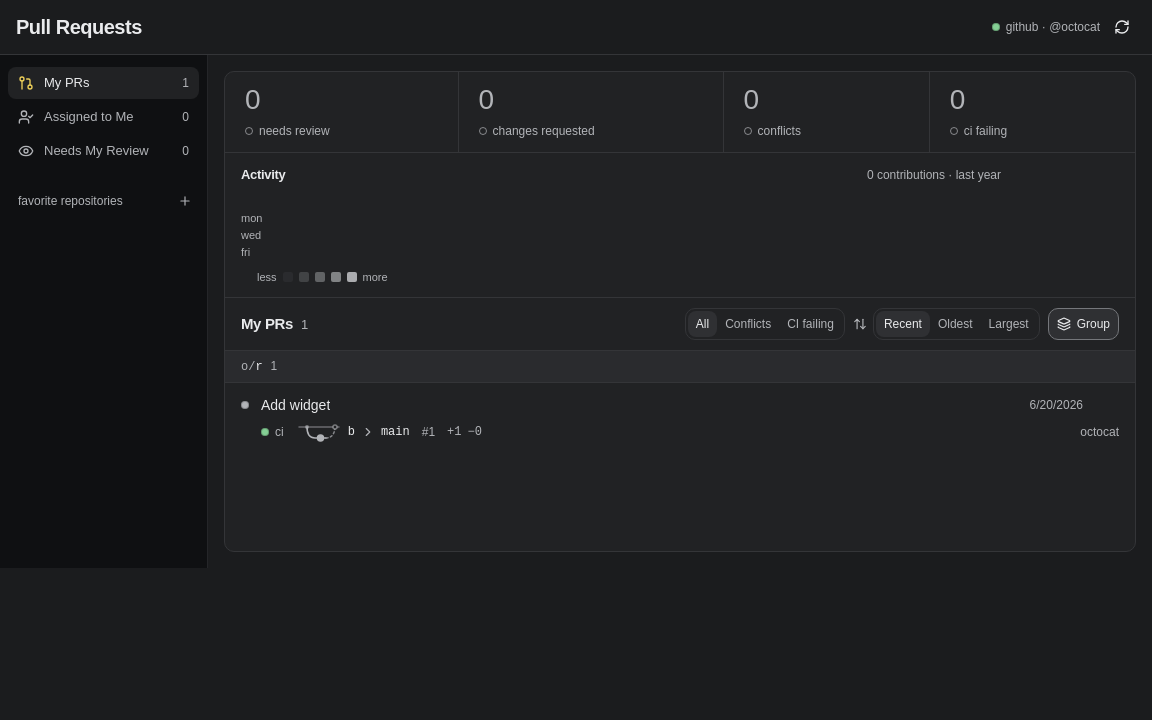
Test: PrsPage › opens and closes the pull request drawer from a row
The image size is (1152, 720).
Step 1. Click the button named "Add widget pull request" → x=680, y=419, box [225,383,1135,455]
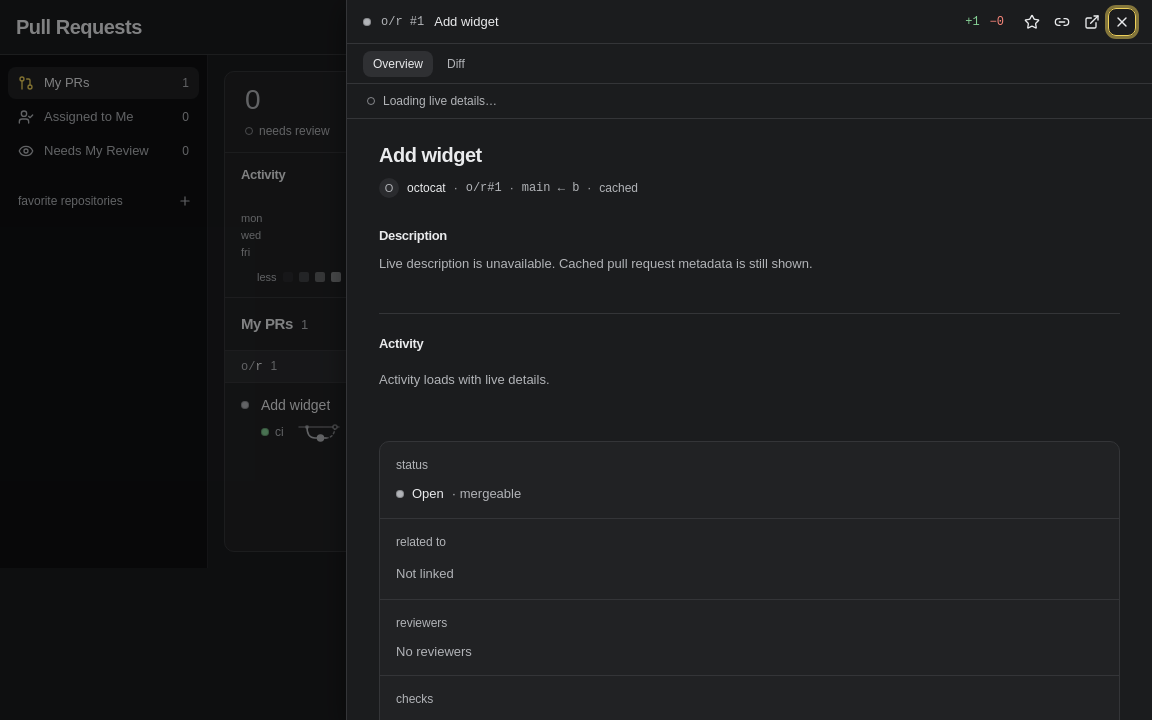
Now the dialog named "o/r pull request 1" is shown
Step 2. Click the button named "Close pull request" → x=1122, y=22, box [1108,8,1136,36]
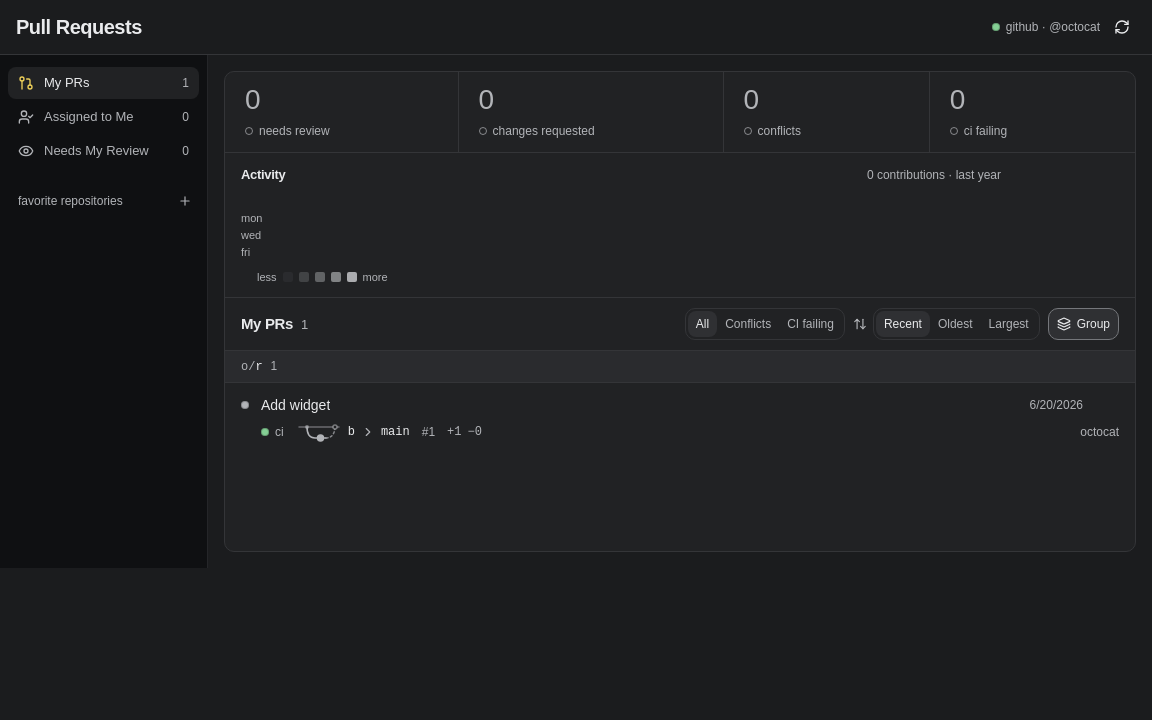
Now the dialog is gone
